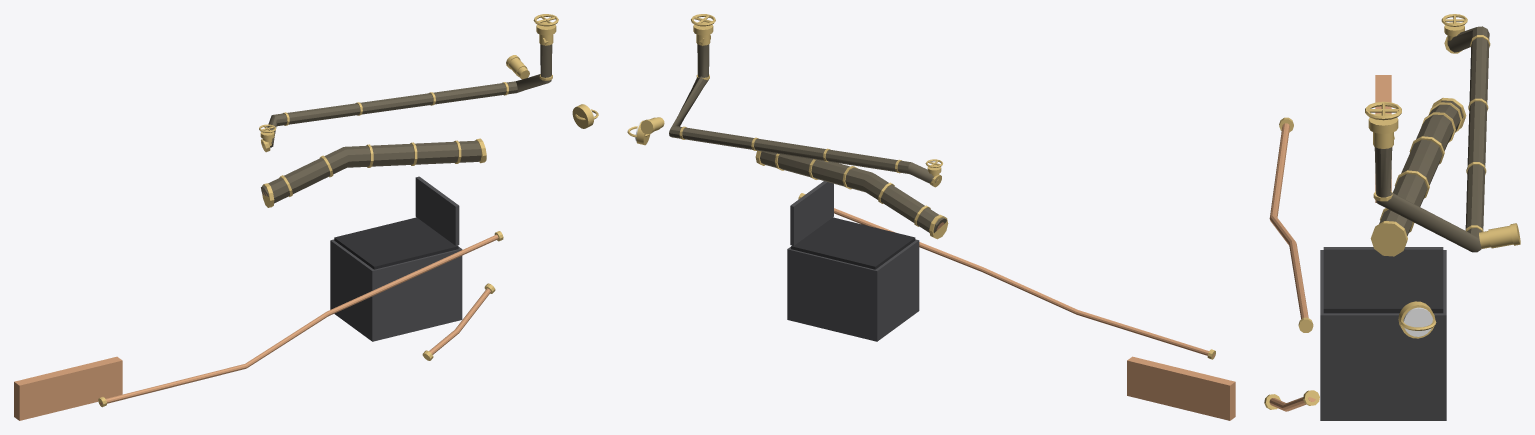
The model's file is Pipework_Fittings.fbx.
3 renders of one model, left to right at view 1: azimuth 30°, elevation 25°; view 2: azimuth 150°, elevation 25°; view 3: azimuth 270°, elevation 25°, orthographic. The views are drawn at different scales.
Parts seen in each view (by area): view 1: Pipework_Fittings; view 2: Pipework_Fittings; view 3: Pipework_Fittings.
Boxes of the visible parts, <box> form: Pipework_Fittings: <box>14,14,598,420</box>; Pipework_Fittings: <box>627,14,1235,420</box>; Pipework_Fittings: <box>1264,14,1520,420</box>.
Size of the model in its own units: 3.16 by 1.41 by 0.7932.
